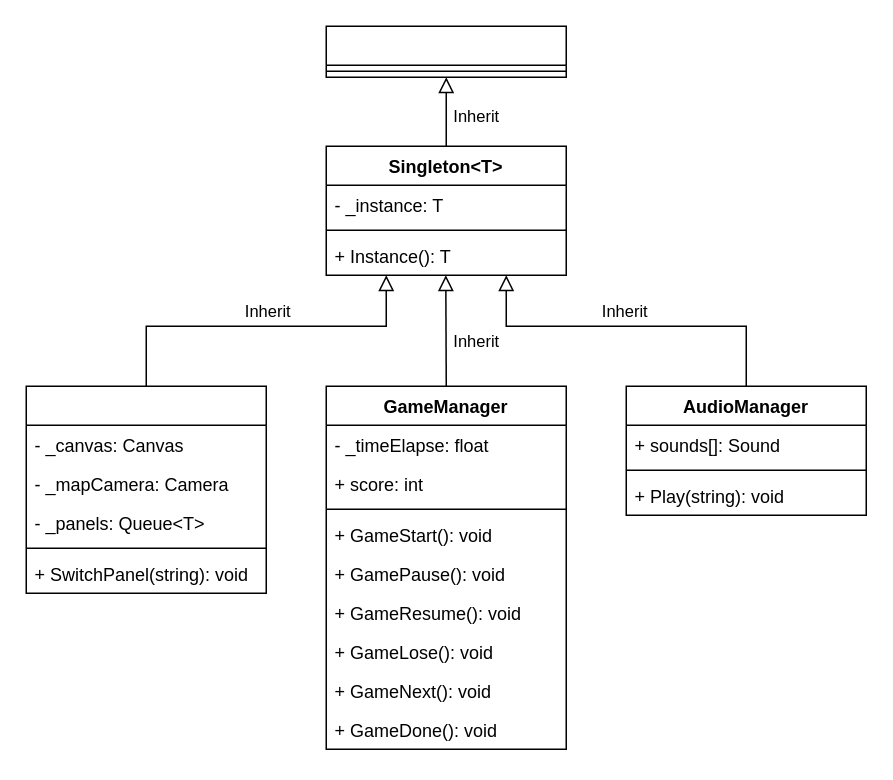
This 893x780 diagram has some shape labels left out. The shapes that lost their labels are listed below. From the top down, each one's box as (x1, y1, x2, y2) in pixels, then its label:
(325, 25, 566, 77): MonoBehaviour
(25, 385, 266, 593): UIManager
